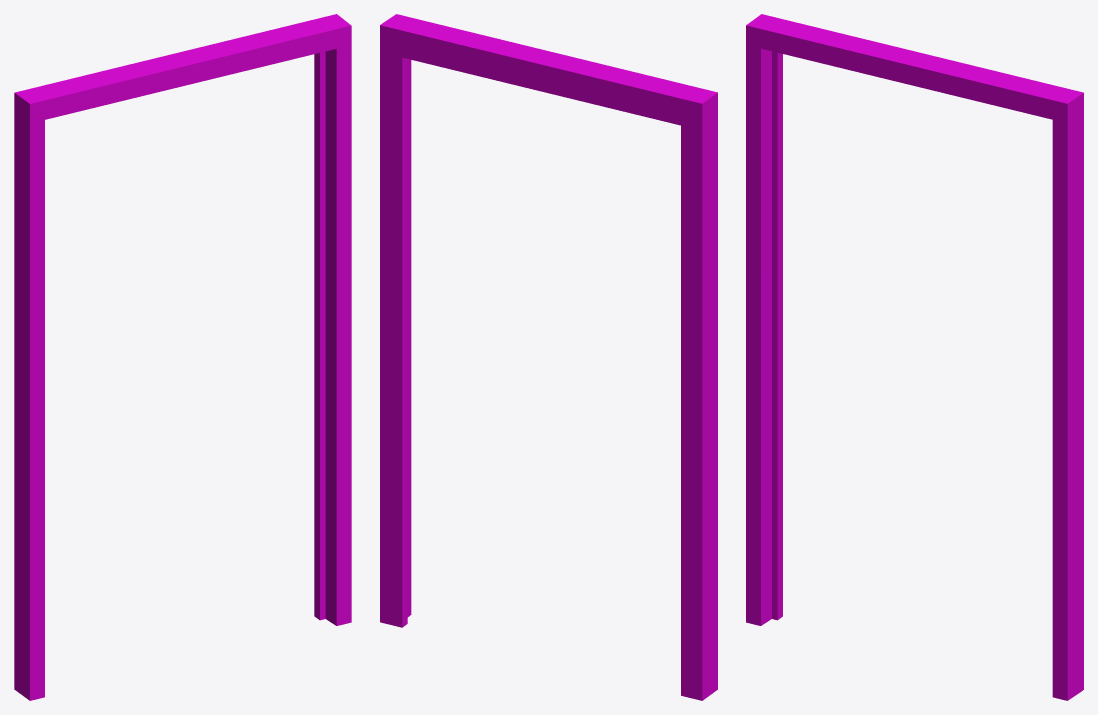
Rendered from Door_B_01.fbx.
3 views of the same model, side by side, from view 1: azimuth 30°, elevation 25°; view 2: azimuth 150°, elevation 25°; view 3: azimuth 330°, elevation 25° (orthographic).
Parts seen in each view (by area): view 1: Door_B_01; view 2: Door_B_01; view 3: Door_B_01.
Part boxes in pixels (<box>): Door_B_01: <box>14,14,351,700</box>; Door_B_01: <box>380,14,717,700</box>; Door_B_01: <box>746,14,1083,700</box>.
Bounding box in the file's own units: 129 × 229 × 10.81.
